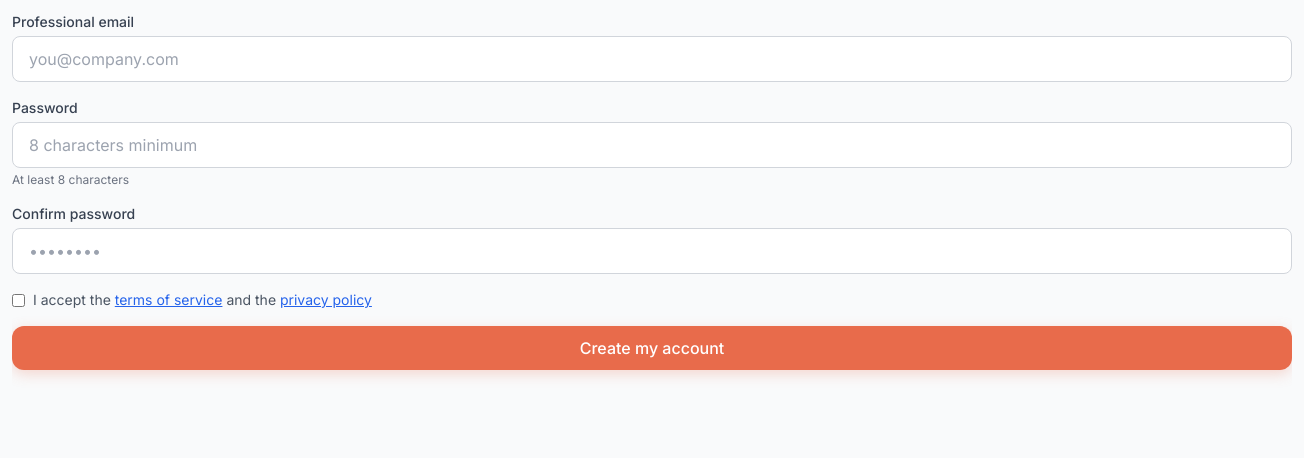
Test: RegisterForm › shows error on auth failure
Type "john@law.com" into the field with placeholder "you@company.com" at (652,59), box 12,36 -> 1292,82
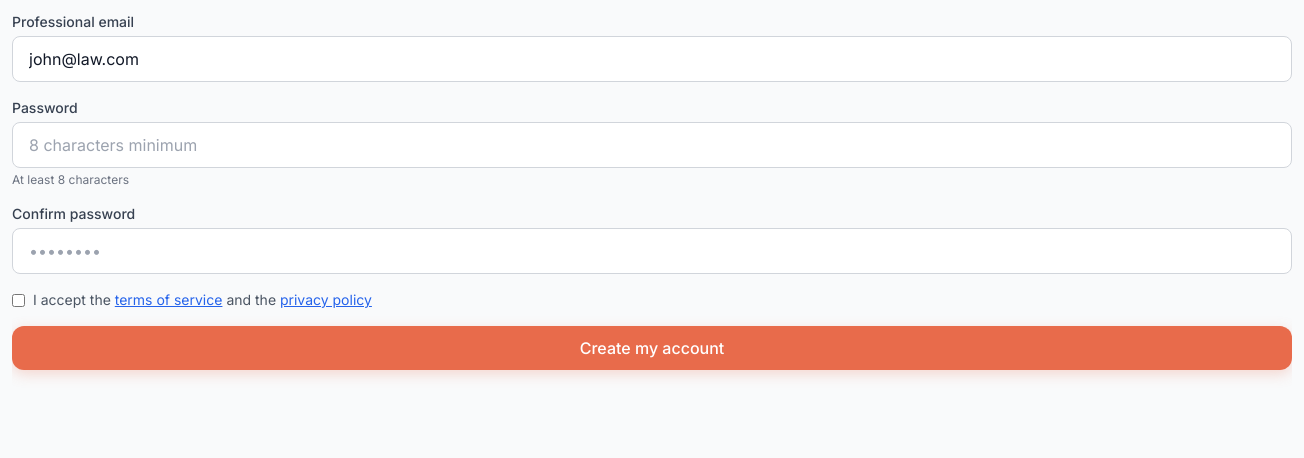
Type "password123" into the password field with placeholder "8 characters minimum" at (652,145), box 12,122 -> 1292,168
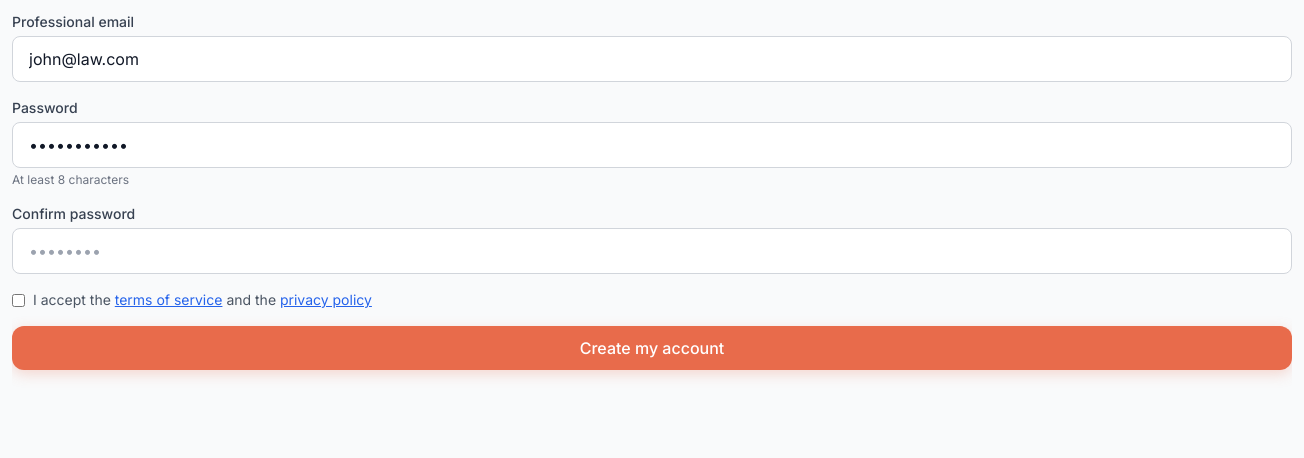
Type "password123" into the password field with placeholder "••••••••" at (652,251), box 12,228 -> 1292,274
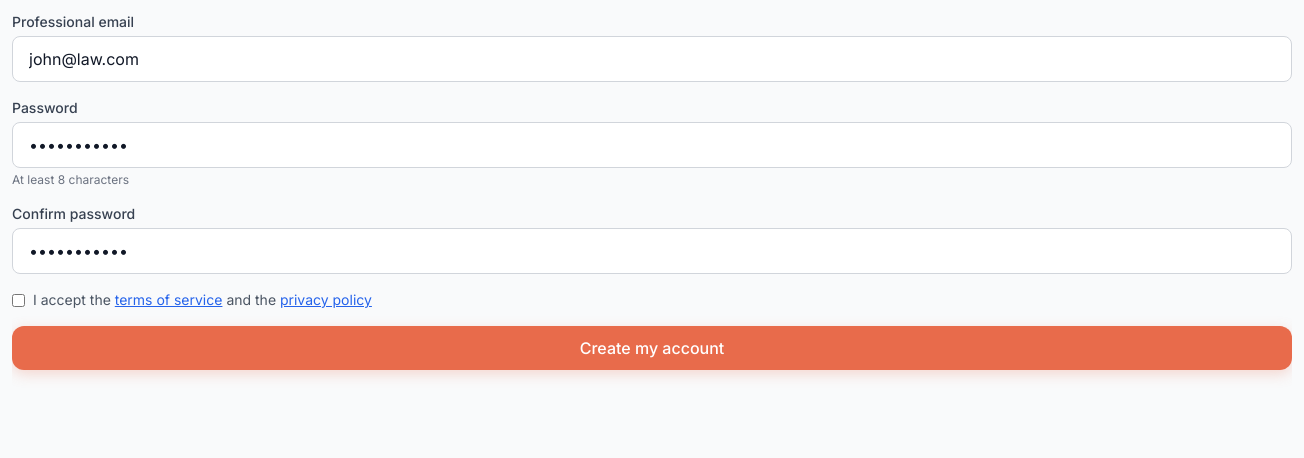
Click the checkbox at (18,300), box 12,294 -> 25,307
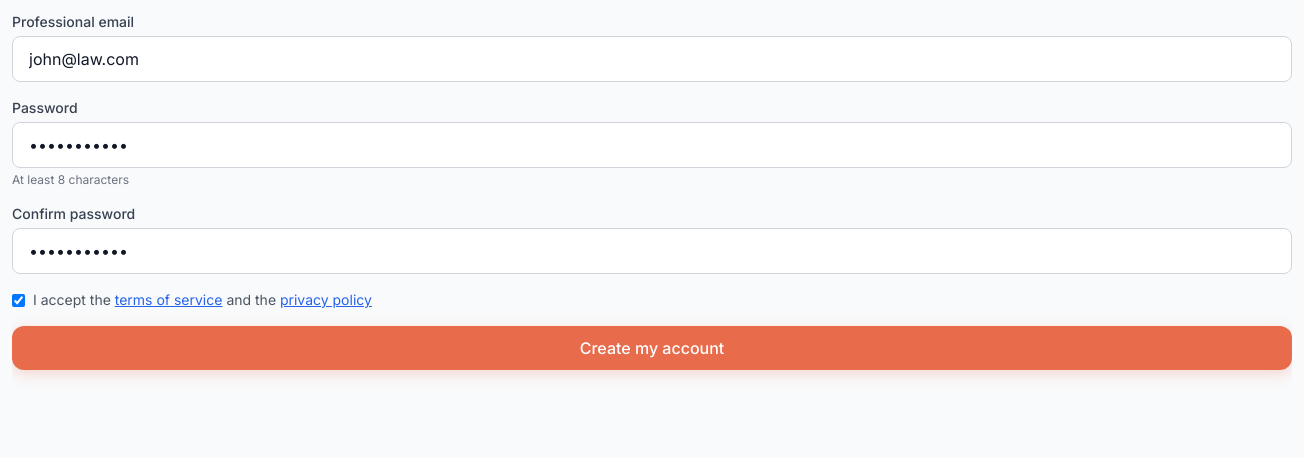
Submit the form from the button "Create my account", box 12,326 -> 1292,370
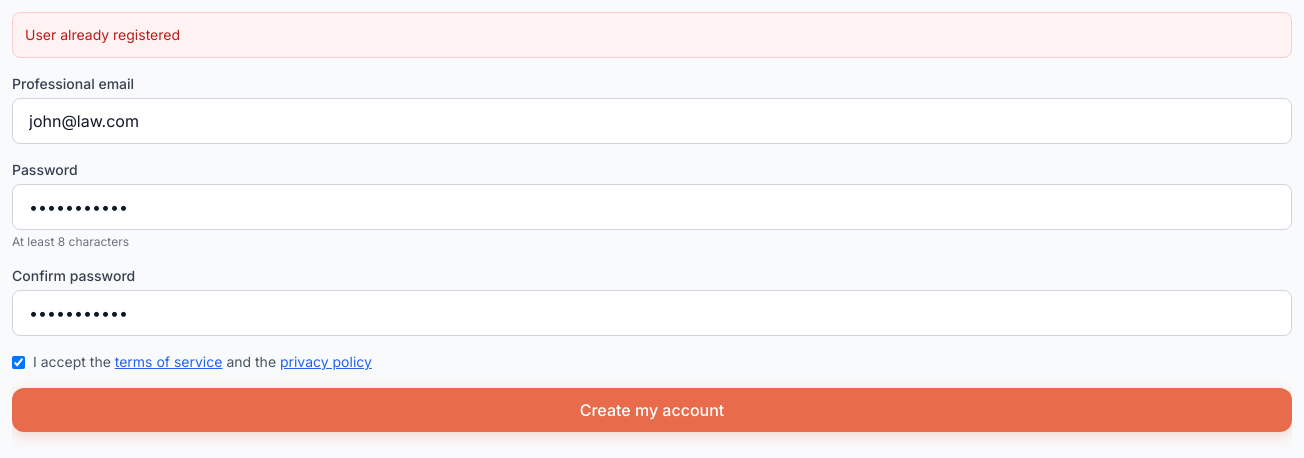
Result: the text "User already registered" is shown at 12,12 -> 1292,58
